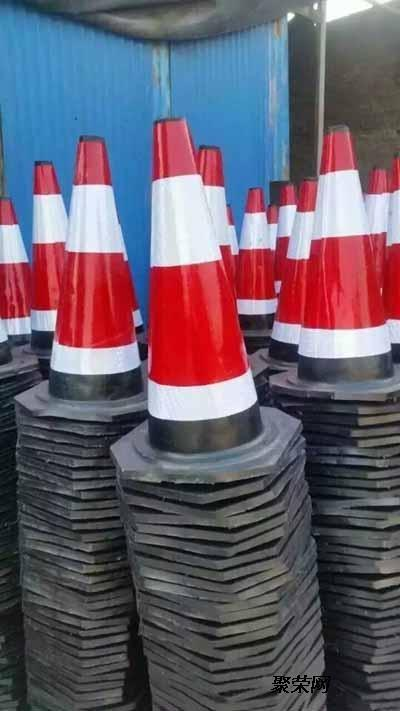cone_barrel: (135, 120, 268, 462), (44, 131, 148, 421), (295, 125, 391, 392), (269, 185, 316, 360), (26, 158, 69, 344), (236, 187, 274, 323)
